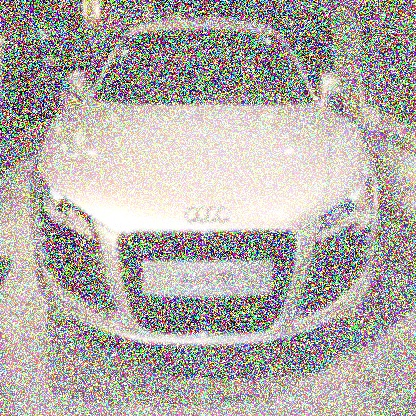Vehicle: (30, 15, 384, 381)
